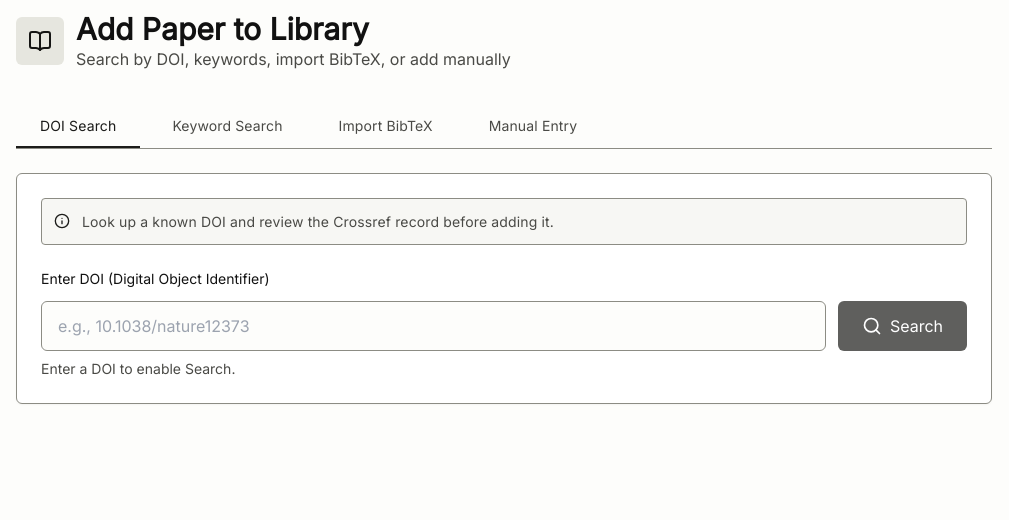
Test: AddPaperView Component › Import BibTeX › should switch to Import tab
What coordinates should you click on to do the following:
click the tab "Import BibTeX"
I would click on:
 (386, 126)
Its box is [315, 103, 457, 148].
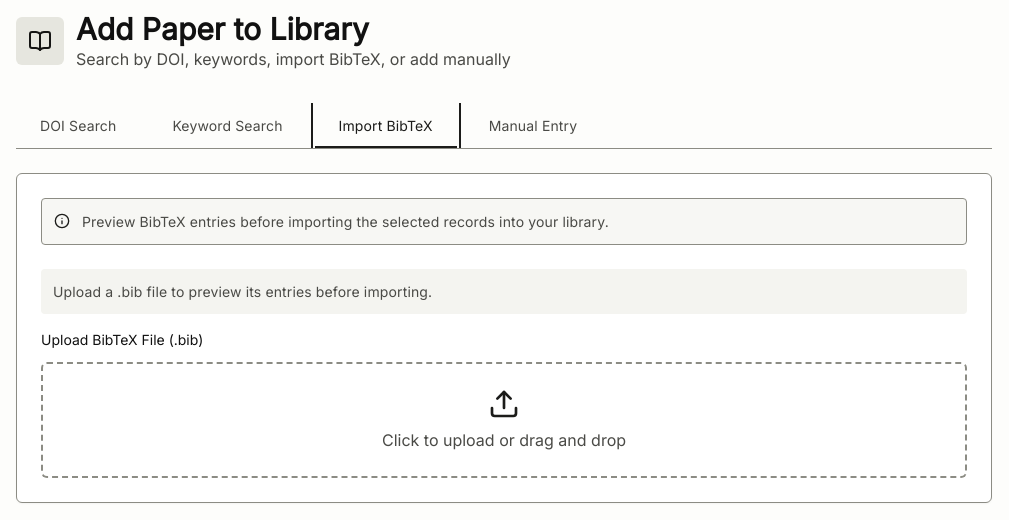
Result: the file field "Upload BibTeX File (.bib)" is shown at [41, 331, 203, 348]
